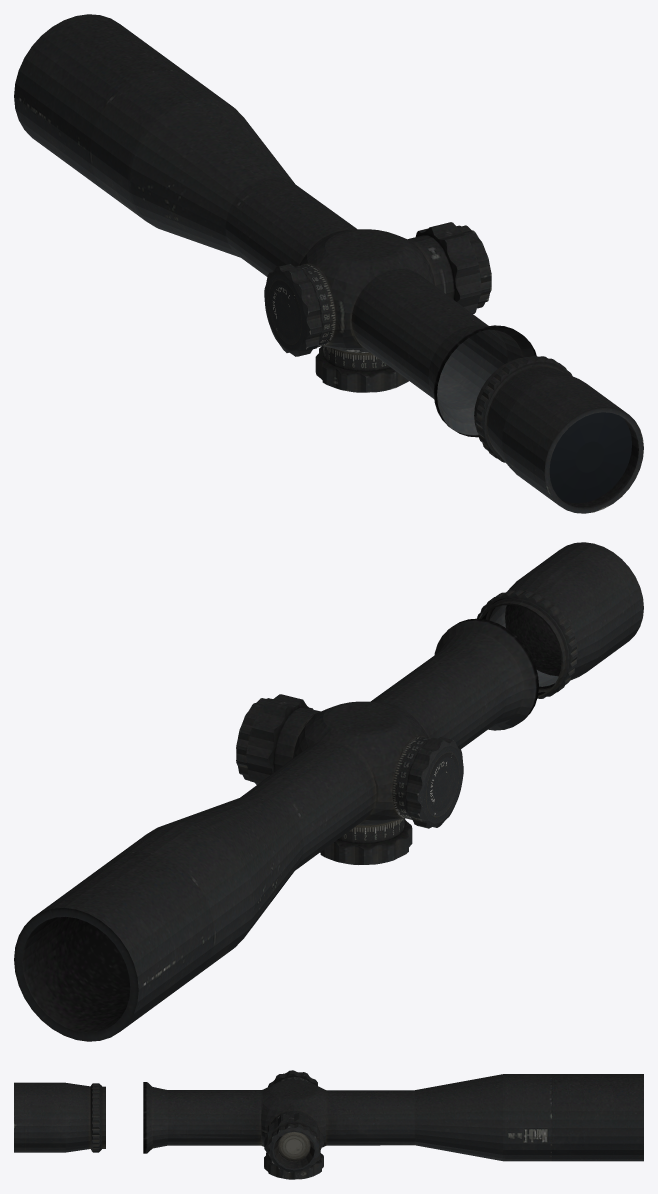
3 views of the same model, one above another, from view 1: azimuth 30°, elevation 25°; view 2: azimuth 150°, elevation 25°; view 3: azimuth 270°, elevation 25° (orthographic). The views are drawn at different scales.
Visible parts, largest first — view 1: TW_57c5ac0824597754771e88a9_PZ_Import; view 2: TW_57c5ac0824597754771e88a9_PZ_Import; view 3: TW_57c5ac0824597754771e88a9_PZ_Import.
Boxes of the visible parts, x1,y1,x2,y2 form: TW_57c5ac0824597754771e88a9_PZ_Import: (14,14,643,513); TW_57c5ac0824597754771e88a9_PZ_Import: (14,542,643,1041); TW_57c5ac0824597754771e88a9_PZ_Import: (14,1070,643,1179).
Size of the model in its own units: 0.0431 by 0.2061 by 0.0326.
1 material, 1 textured.
